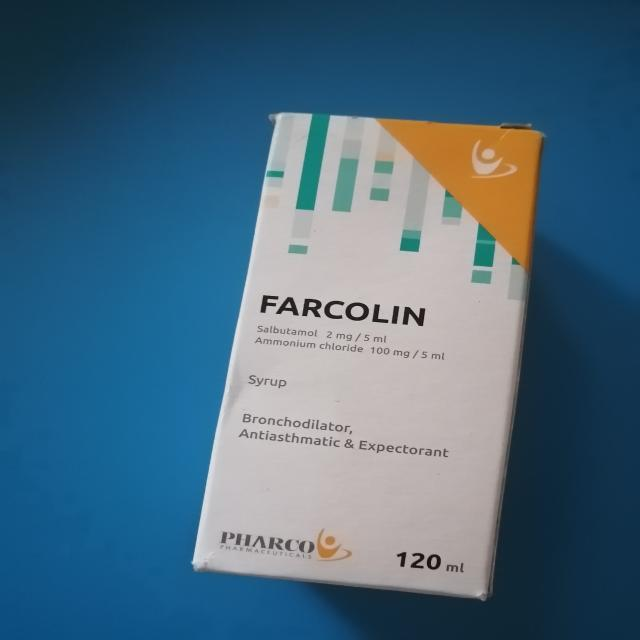Medicine Name: (250, 283, 448, 329)
